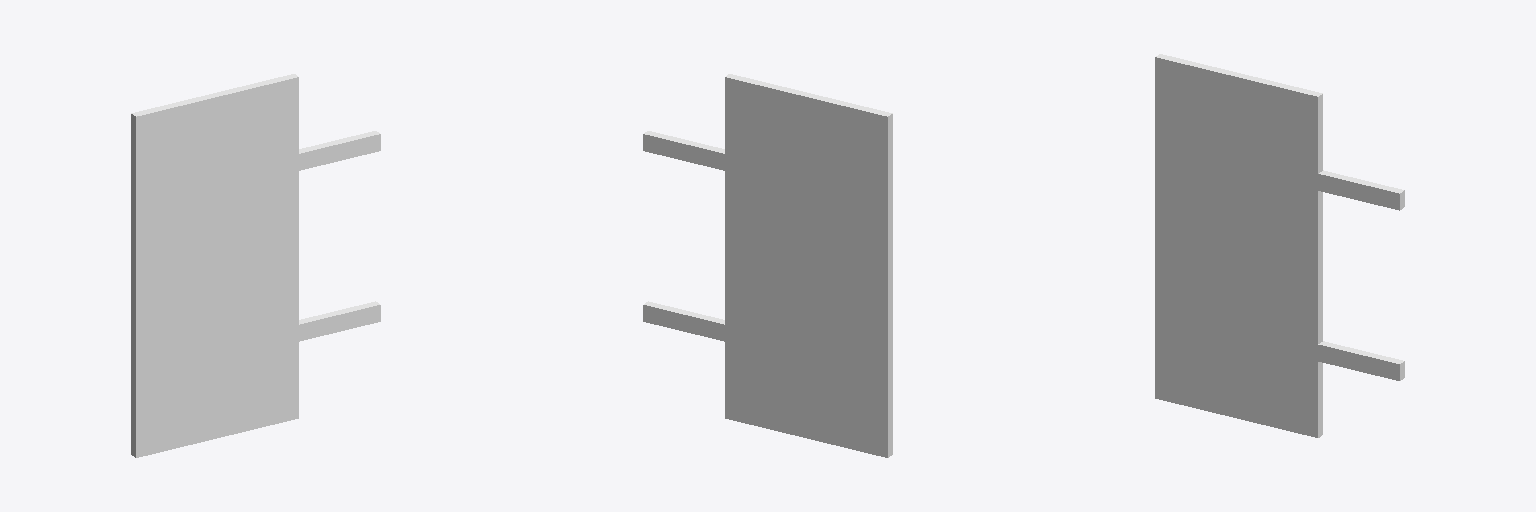
Rendered from light_sign_yellow.obj.
3 renders of one model, left to right at view 1: azimuth 30°, elevation 25°; view 2: azimuth 150°, elevation 25°; view 3: azimuth 330°, elevation 25°, orthographic.
Parts seen in each view (by area): view 1: object 1; view 2: object 1; view 3: object 1.
Part boxes in pixels (bbox=[...]): object 1: bbox=[131, 74, 380, 457]; object 1: bbox=[643, 74, 892, 457]; object 1: bbox=[1155, 54, 1404, 437].
Bounding box in the file's own units: 3 × 4 × 0.1.